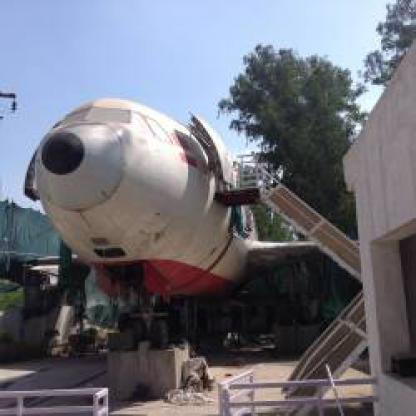CIV_Plane: (10, 90, 316, 328)
